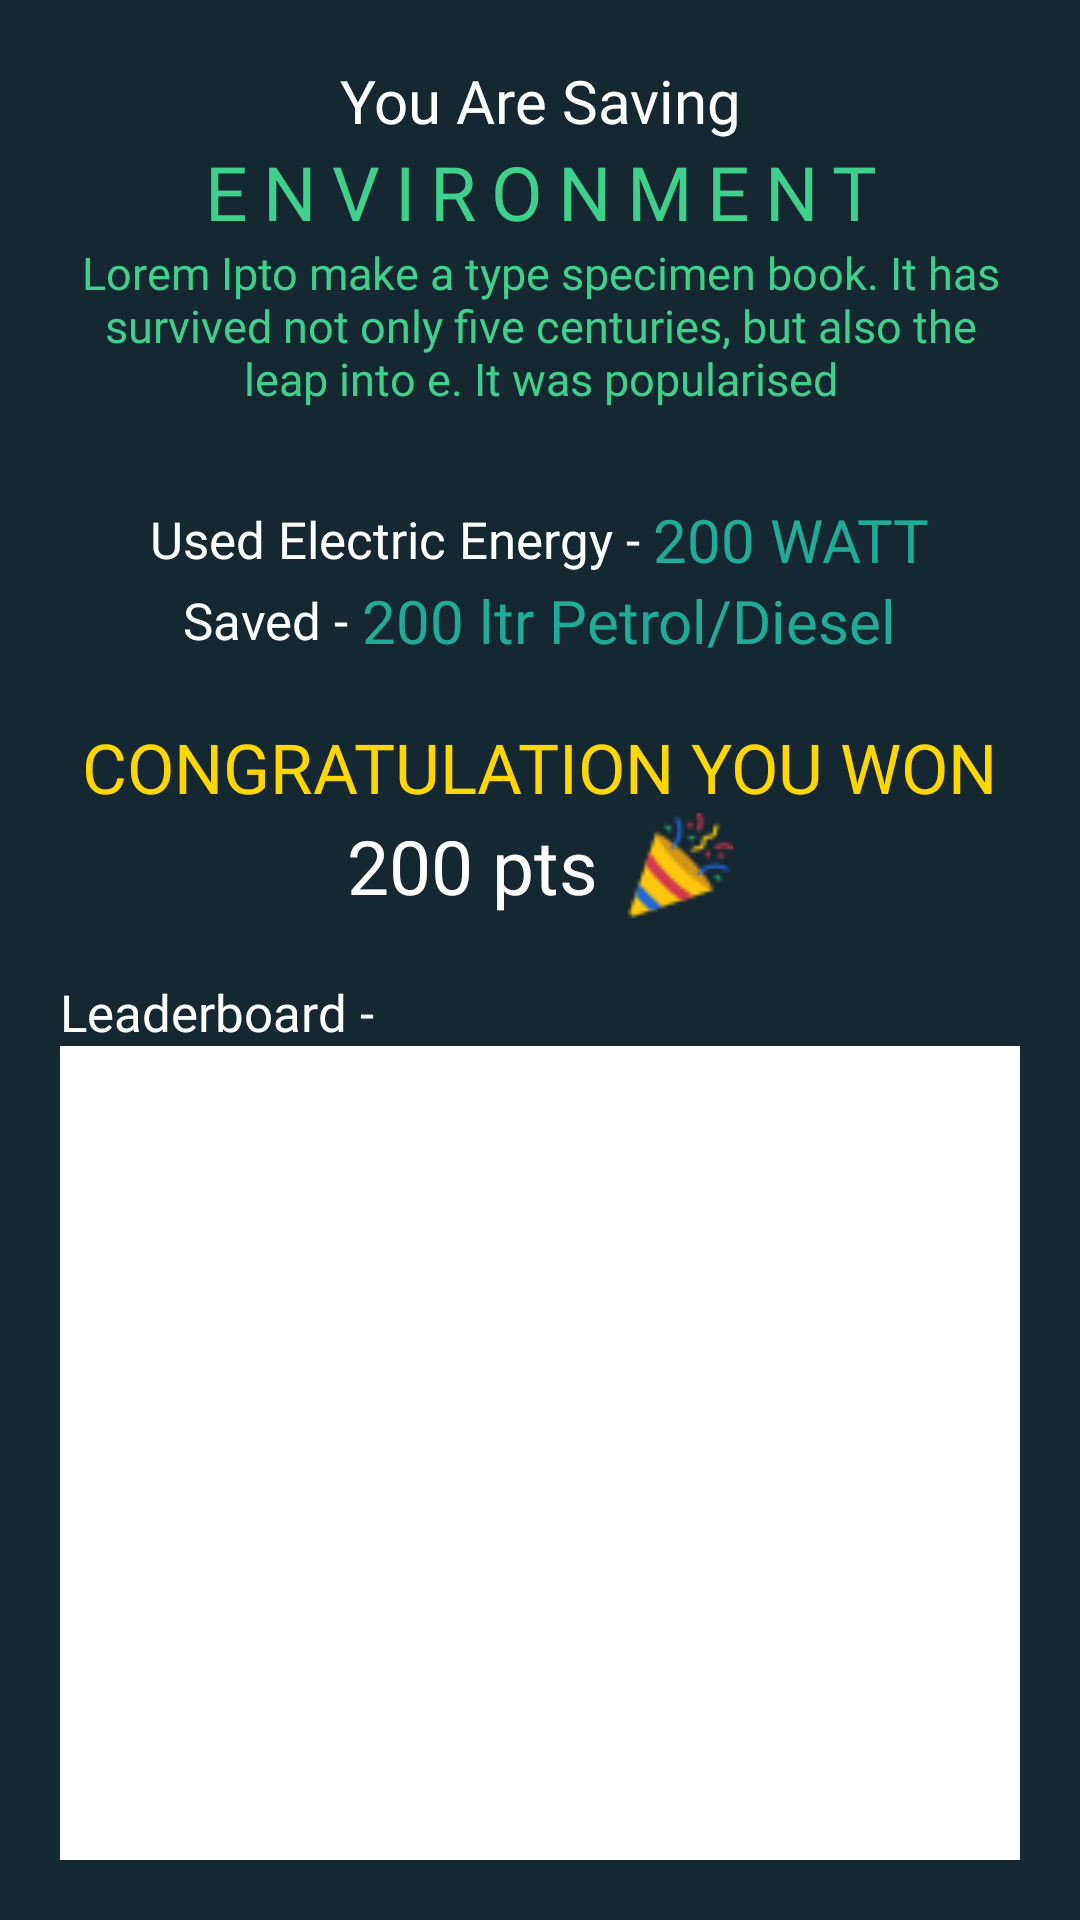

Icon click points for this 1080 × 1920 phone screenshot, format (x=x, y=y):
party: (x=680, y=865)
